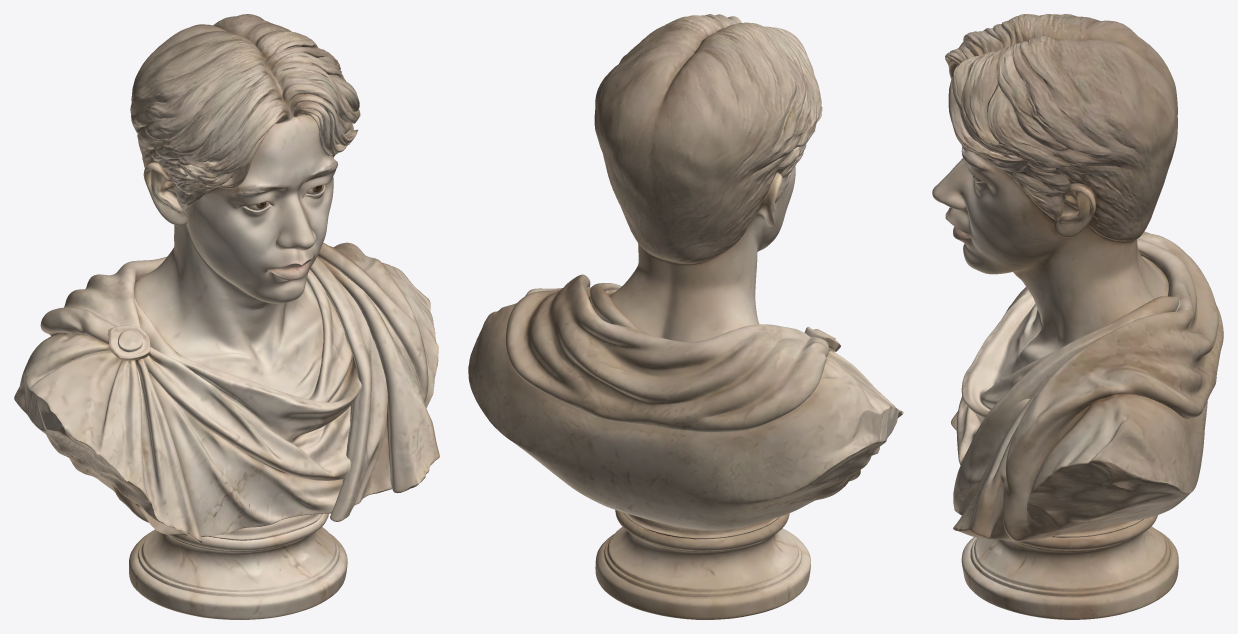
File: 13_김준서.compressed.glb
3 renders of one model, left to right at view 1: azimuth 30°, elevation 25°; view 2: azimuth 150°, elevation 25°; view 3: azimuth 270°, elevation 25°, orthographic.
Visible parts, largest first — view 1: model; view 2: model; view 3: model.
Boxes of the visible parts, left/top/right/bottom form: model: left=14, top=14, right=439, bottom=619; model: left=468, top=14, right=903, bottom=619; model: left=932, top=14, right=1223, bottom=619.
Size of the model in its own units: 1.46 by 1.9 by 0.9148.
1 material, 1 textured.
